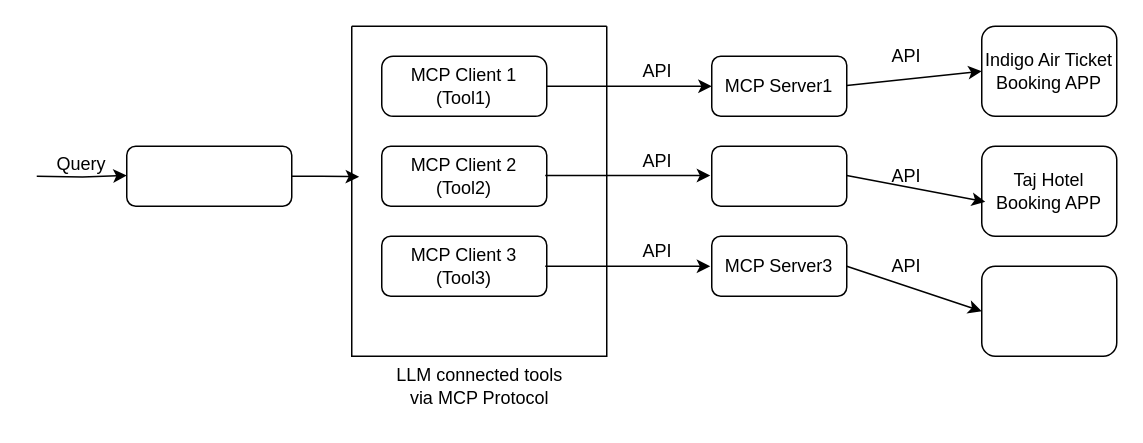
The diagram is 1143 pixels wide and 443 high, and some of its shapes have lost their labels. Each missing label, with the centre of its shape:
Hertz Car Booking APP: (1048,310)
LLM Prompt Chat GPT / Claude: (208,175)
MCP Server2: (778,175)
